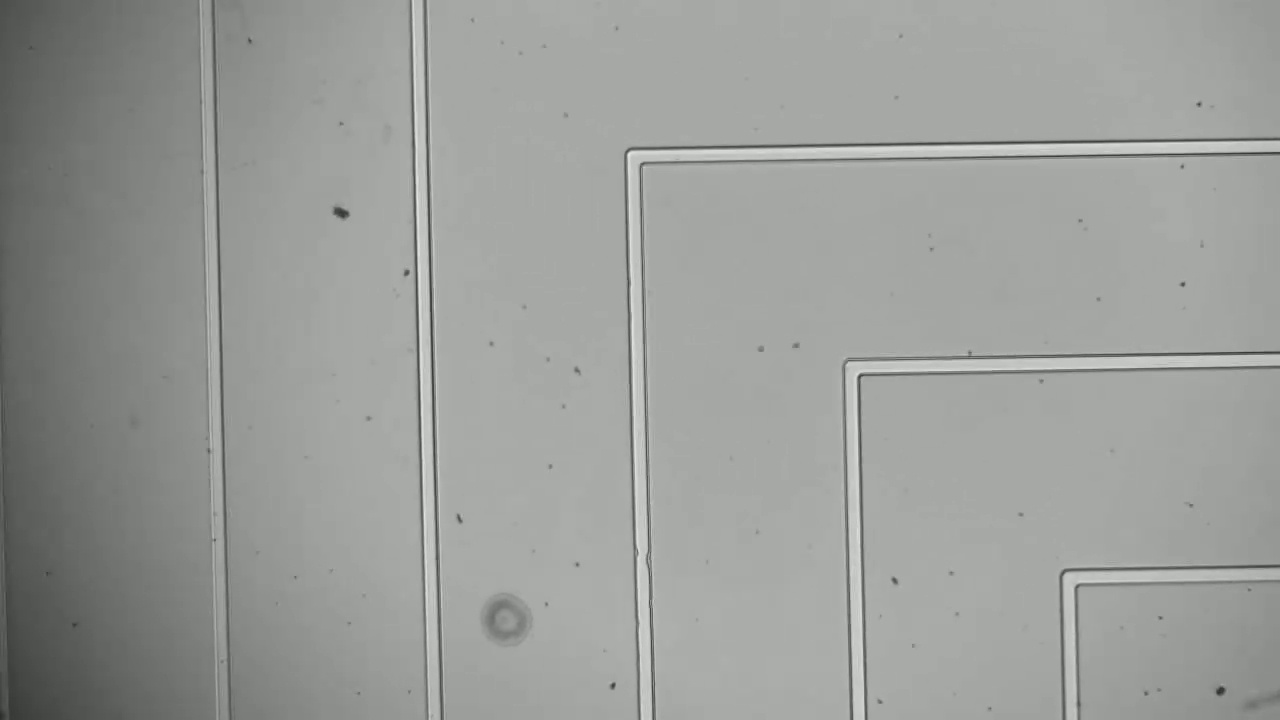edge_bite: (624, 541, 656, 579)
